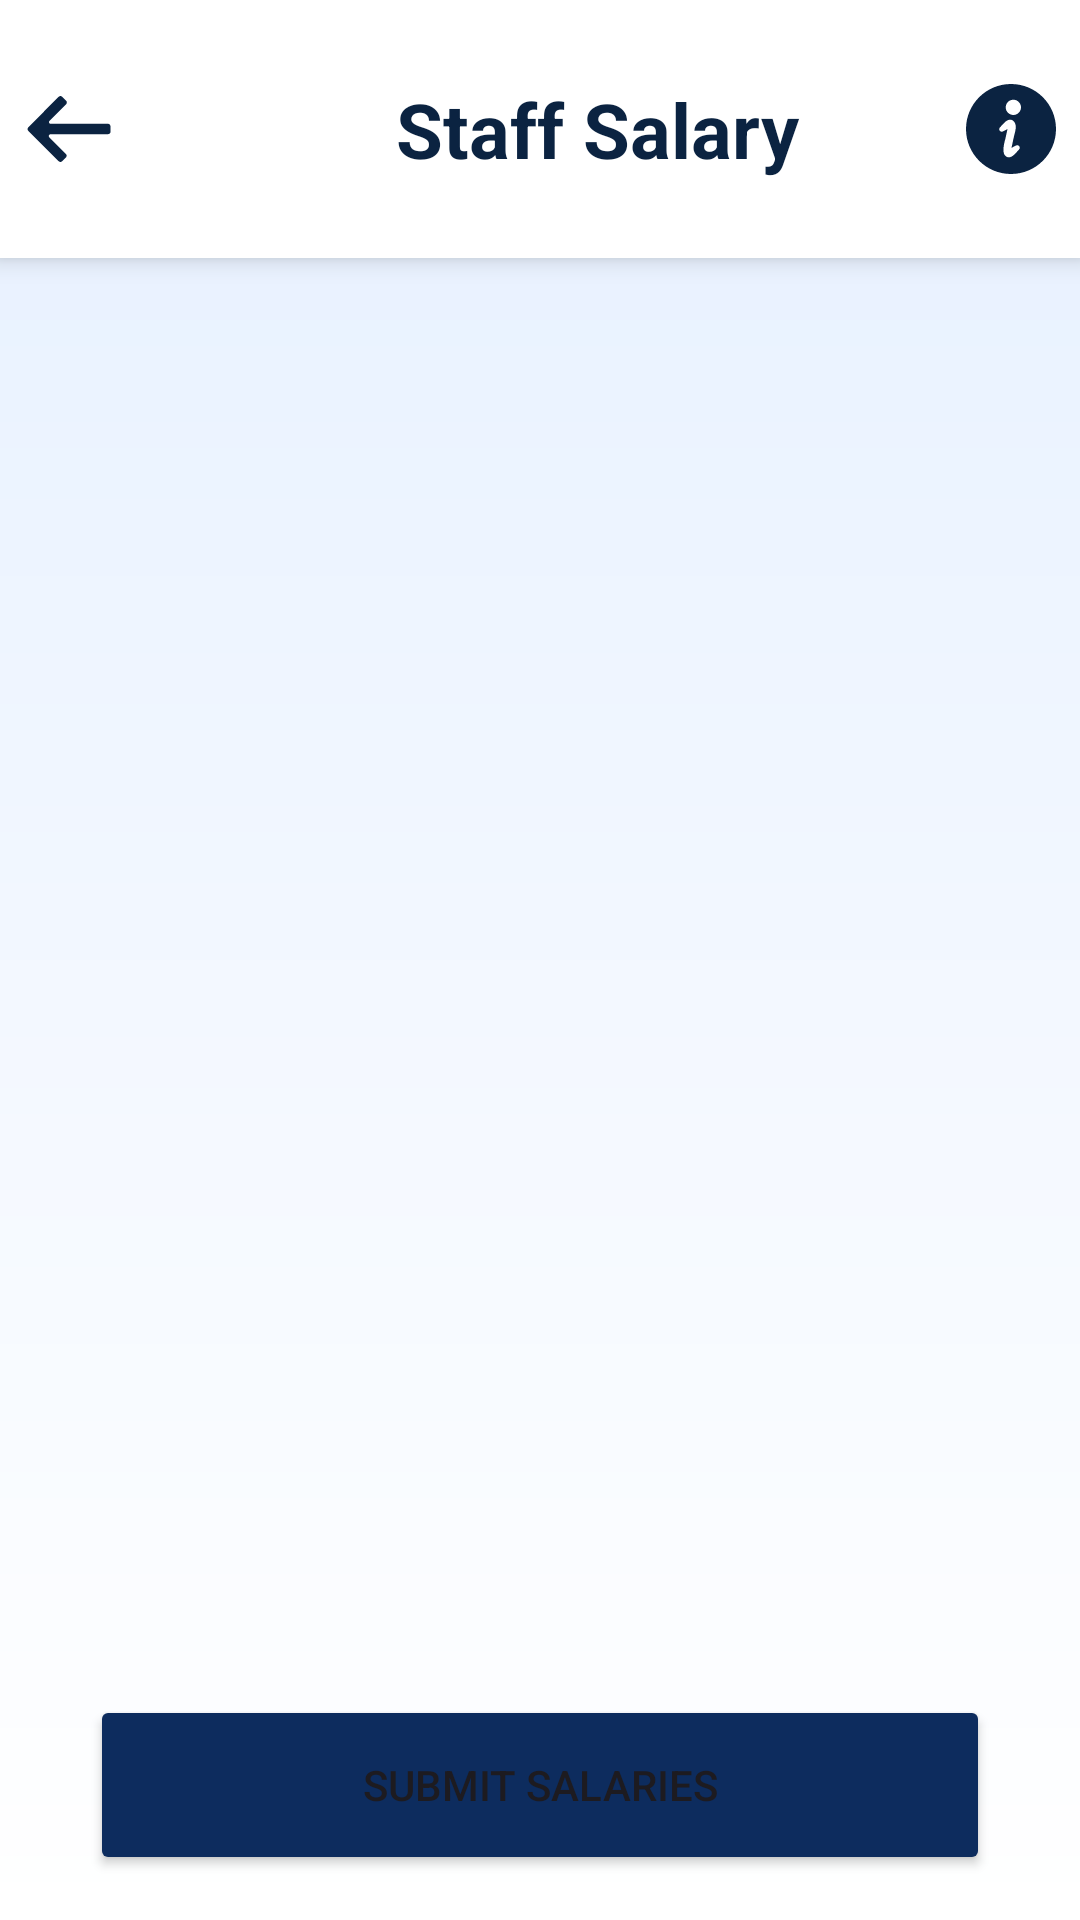

Named icons in this screenshot (1080*1920) and their centers, (x=x, y=y):
back: (x=69, y=129)
Information: (x=1011, y=129)
